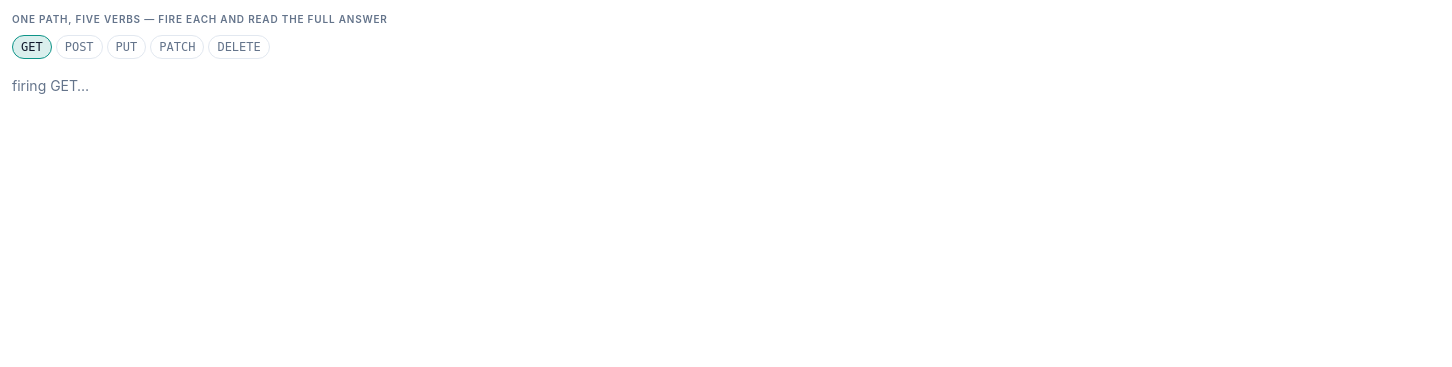
Test: MethodsDemo › DELETE renders 200 with the confirmation body
The width and height of the screenshot is (1452, 367).
Click the button with test id "reqres-verb-delete" at x=239, y=47, box [208, 35, 270, 59]
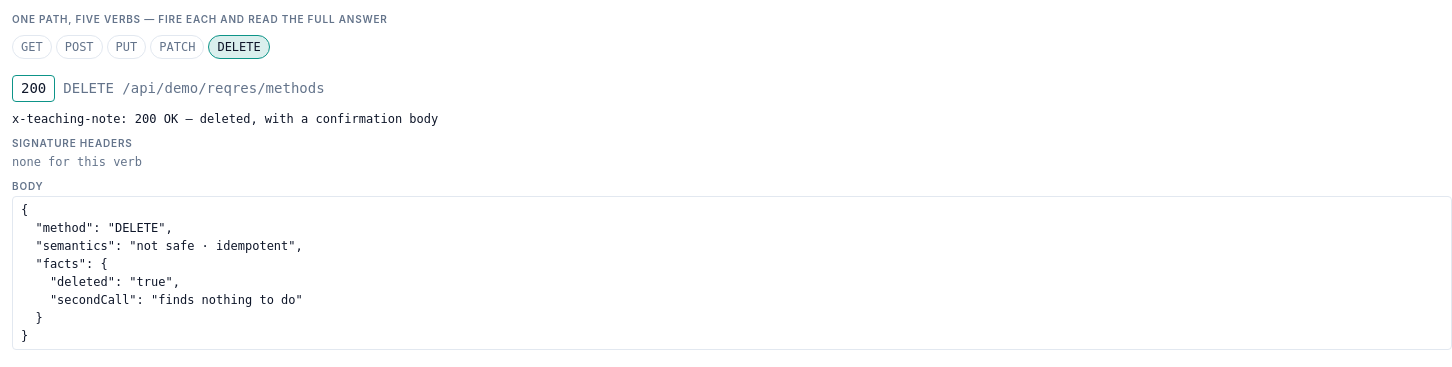
Result: the text with test id "reqres-status" reads "200" at [21, 80, 46, 96]
Result: the text with test id "reqres-body" shows "deleted" at [21, 203, 303, 343]
